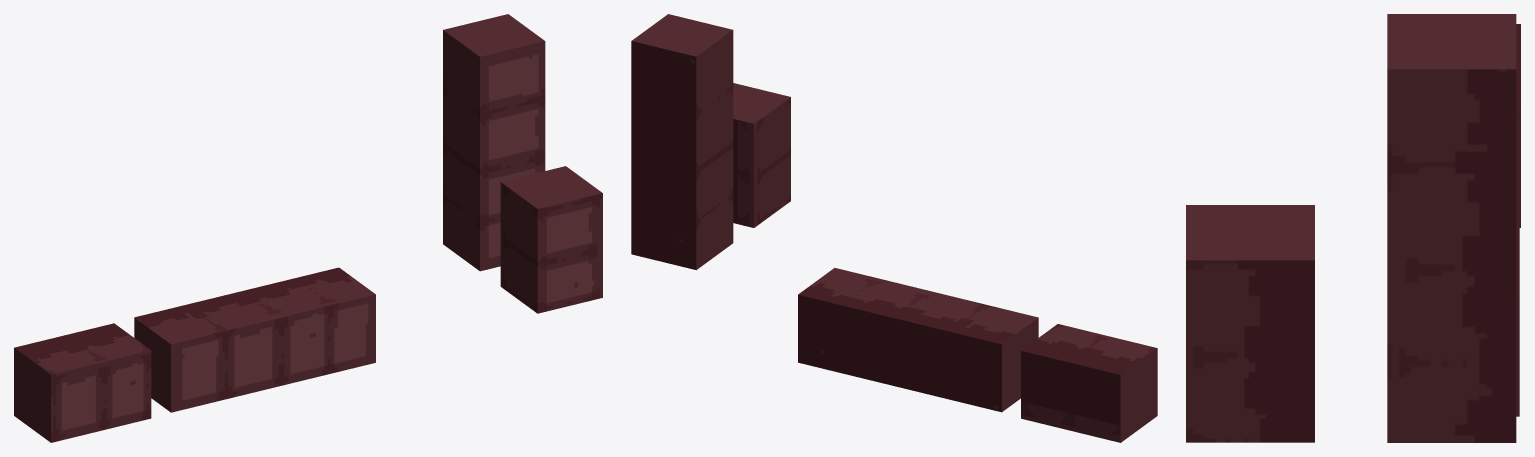
File: Fixbox02.fbx
The picture shows the model from 3 angles, left to right: view 1: azimuth 30°, elevation 25°; view 2: azimuth 150°, elevation 25°; view 3: azimuth 270°, elevation 25°; orthographic projection. The views are drawn at different scales.
Visible parts, largest first — view 1: Long01, Long02, Shot02, Shot01; view 2: Long02, Long01, Shot01, Shot02; view 3: Long02, Shot02, Long01, Shot01.
Part boxes in pixels (x1,y1,x2,y2): Long01: (134,267,375,412); Long02: (443,14,545,271); Shot02: (500,166,602,313); Shot01: (14,323,151,442); Long02: (631,14,733,270); Long01: (798,268,1038,412); Shot01: (1021,324,1157,442); Shot02: (733,83,790,227); Long02: (1387,14,1516,442); Shot02: (1186,205,1314,442); Long01: (1516,123,1519,416); Shot01: (1516,24,1520,227).
Size of the model in its own units: 33.07 by 18.13 by 11.17.
Materials: 1 (1 with a texture image).
